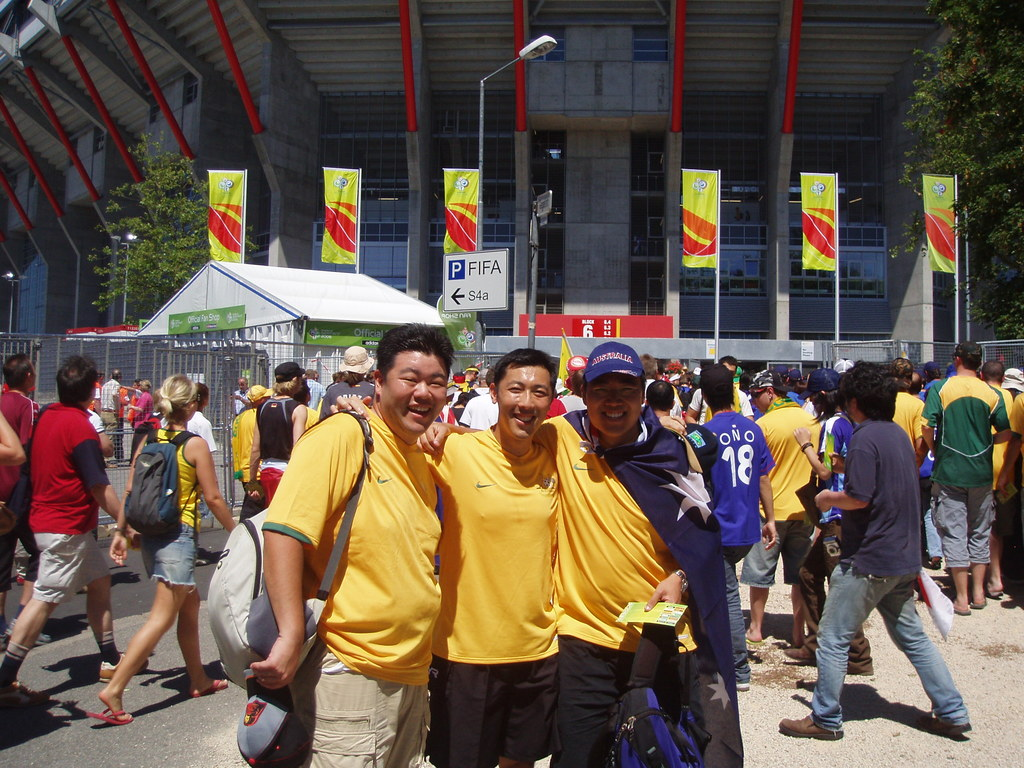Footwear: (95, 648, 149, 684), (778, 713, 847, 737), (1, 621, 50, 646), (1, 678, 32, 704), (189, 676, 227, 697), (781, 644, 815, 666), (90, 708, 135, 724), (923, 721, 971, 734), (952, 600, 973, 618), (195, 547, 214, 566), (743, 632, 760, 648), (0, 625, 10, 650), (968, 595, 984, 610), (984, 582, 1001, 596), (737, 677, 746, 692), (16, 566, 24, 580)
